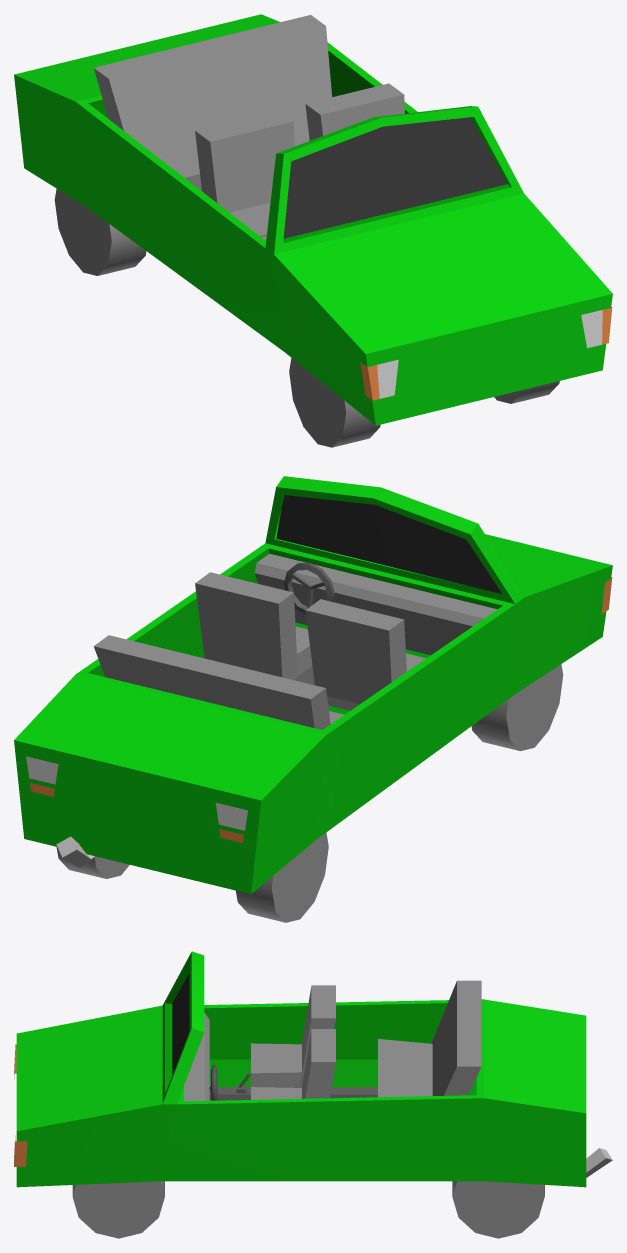
The model's file is cabrio_02.fbx.
The picture shows the model from 3 angles, top to bottom: view 1: azimuth 30°, elevation 25°; view 2: azimuth 150°, elevation 25°; view 3: azimuth 270°, elevation 25°; orthographic projection. The views are drawn at different scales.
Parts seen in each view (by area): view 1: cabrio_02; view 2: cabrio_02; view 3: cabrio_02.
Part boxes in pixels (bbox=[...]): cabrio_02: bbox=[14, 14, 612, 447]; cabrio_02: bbox=[14, 476, 612, 922]; cabrio_02: bbox=[14, 951, 612, 1238].
Bounding box in the file's own units: 1.6 × 1.63 × 4.1.
